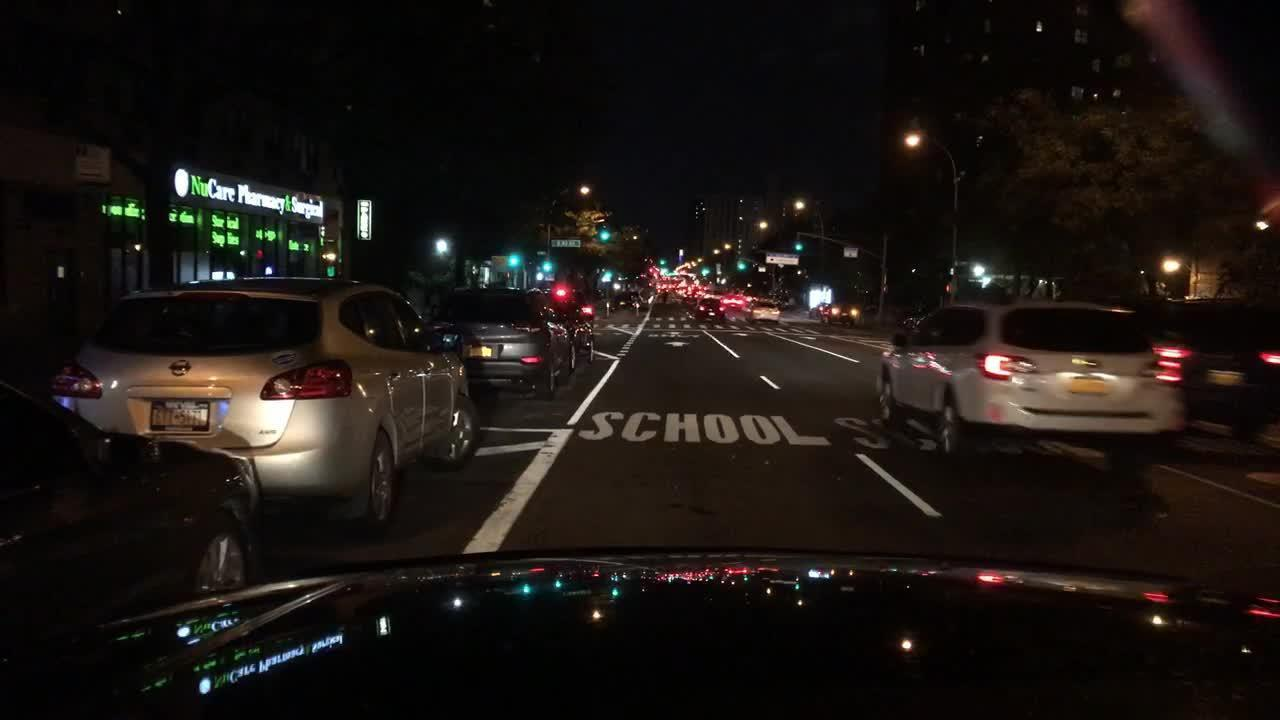Nissan: (158, 352, 200, 383)
